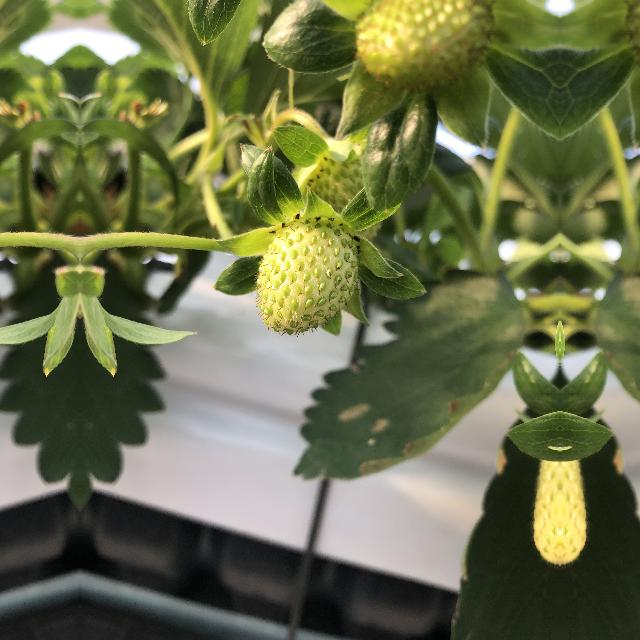Health_25: (254, 214, 368, 336)
